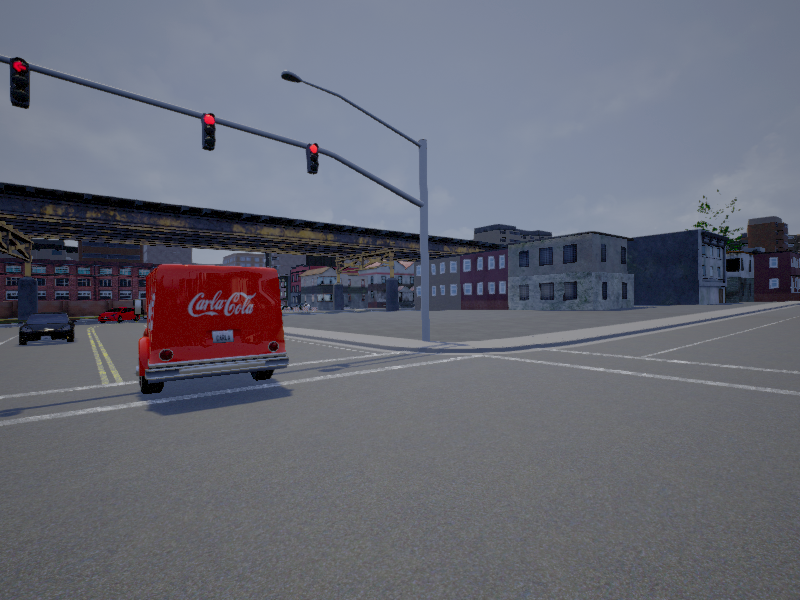Benign: (139, 268, 283, 394), (19, 312, 76, 344), (97, 305, 141, 324)
